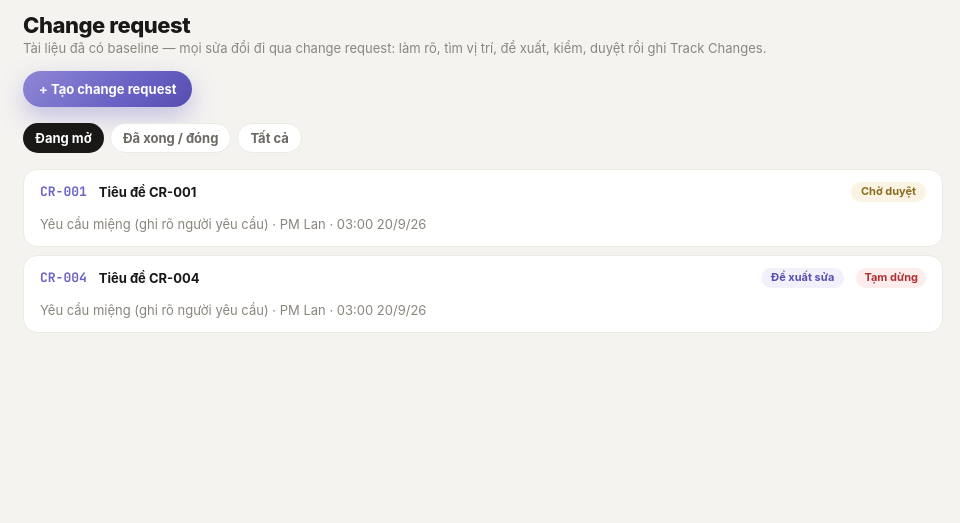
Test case: ChangeRequestList › mặc định chỉ hiện CR đang mở; chuyển bộ lọc ra CR đã đóng rồi tất cả
The width and height of the screenshot is (960, 523).
Expected: the number of list items is 2, [23, 169, 943, 247]; [23, 255, 943, 333]
Expected: the text "CR-001" is shown, [40, 182, 87, 202]
Step 1. Click the button "Đã xong / đóng" → click(170, 138), box [110, 123, 231, 153]
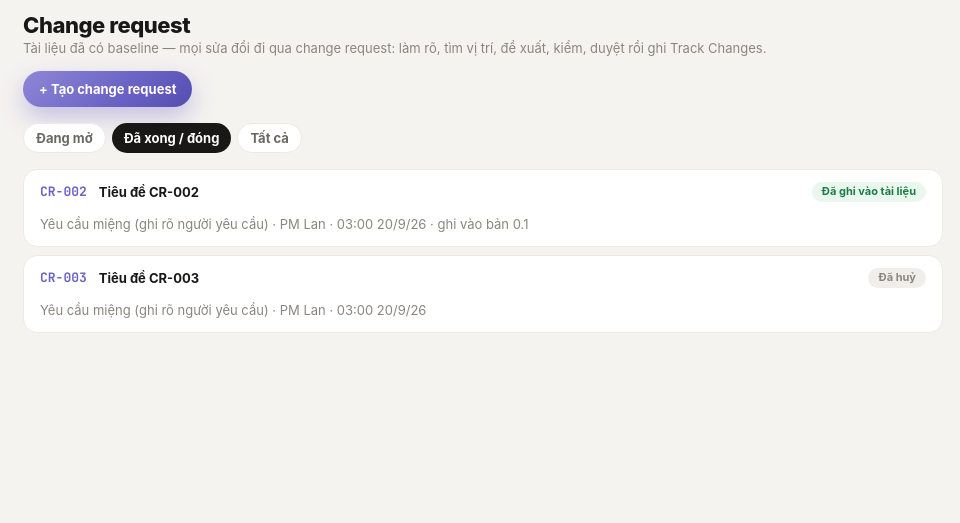
Expected: the number of list items is 2, [23, 169, 943, 247]; [23, 255, 943, 333]
Now the text "CR-002" is shown, box [40, 182, 87, 202]
Now the text "CR-003" is shown, box [40, 268, 87, 288]
Step 2. Click the button "Tất cả" → click(270, 138), box [237, 123, 302, 153]
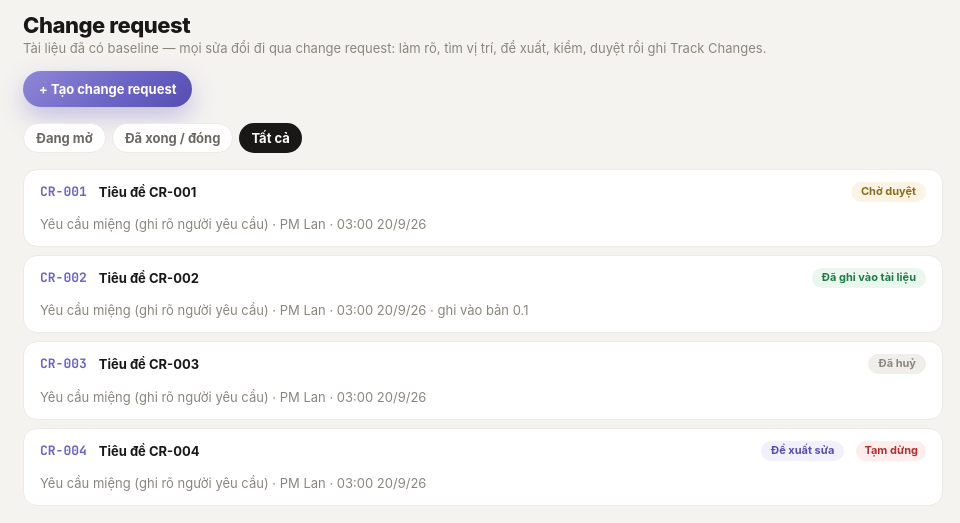
Now the number of list items is 4, box [23, 169, 943, 247]; [23, 255, 943, 333]; [23, 341, 943, 420]; [23, 428, 943, 506]
